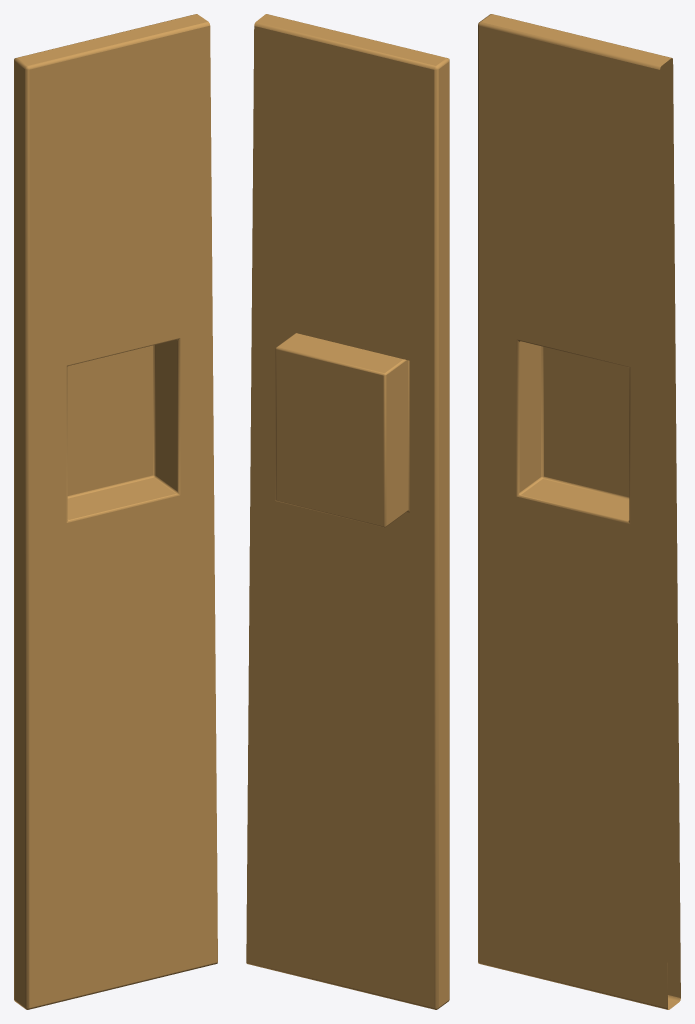
The model's file is 131LeftDoor.obj.
3 renders of one model, left to right at view 1: azimuth 30°, elevation 25°; view 2: azimuth 150°, elevation 25°; view 3: azimuth 330°, elevation 25°, orthographic.
Visible parts, largest first — view 1: 131.000; view 2: 131.000; view 3: 131.000.
Part boxes in pixels (x1,y1,x2,y2): 131.000: (14, 14, 217, 1009); 131.000: (246, 14, 449, 1009); 131.000: (478, 14, 680, 1009).
Bounding box in the file's own units: 0.3575 × 1.68 × 0.0774.
